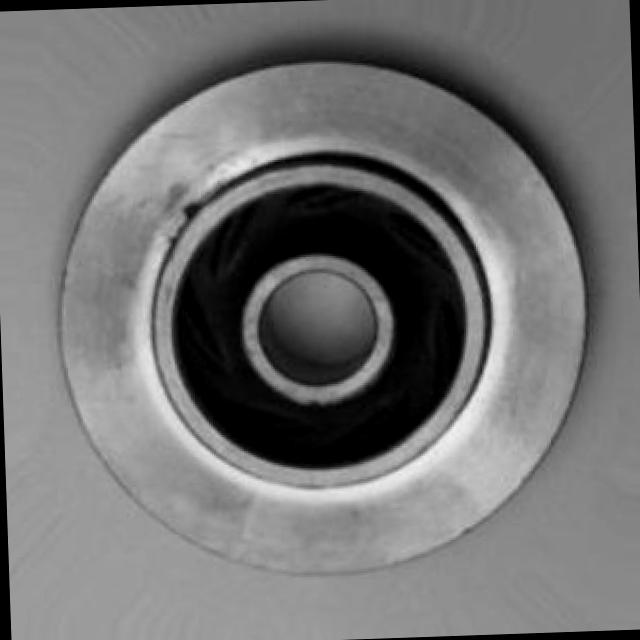Defect: (168, 194, 218, 227)
